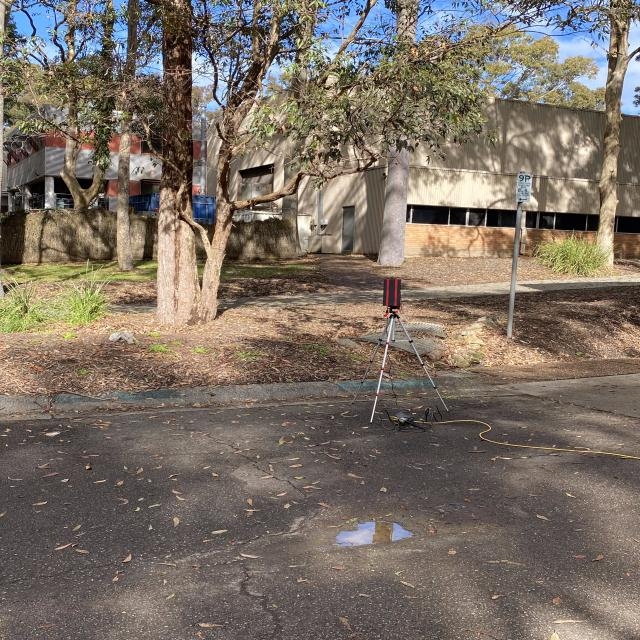matrix: (381, 278, 402, 308)
